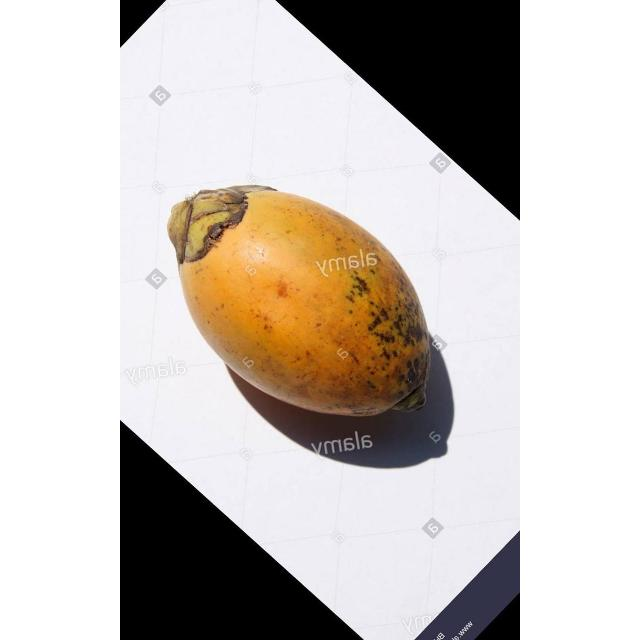good: (167, 187, 431, 419)
